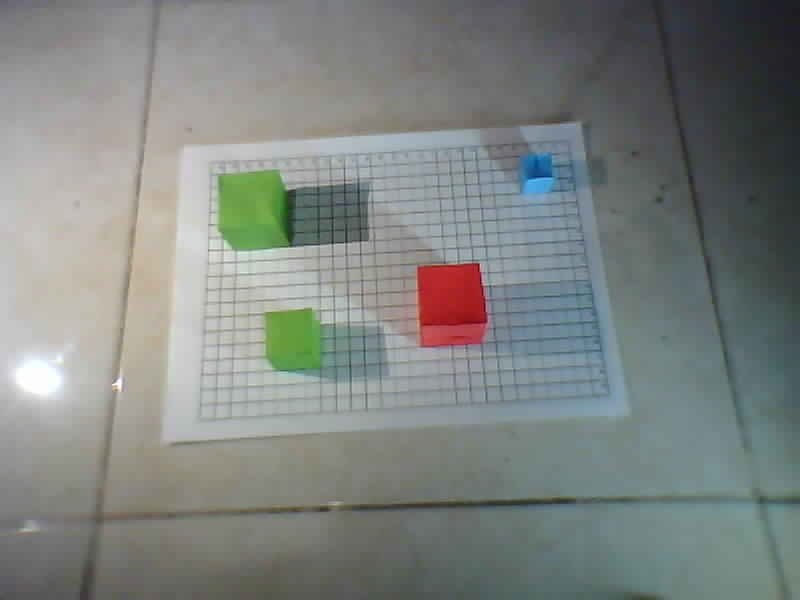LB: (196, 415, 204, 421)
LT: (208, 160, 216, 166)
RB: (604, 393, 612, 399)
RT: (565, 137, 573, 143)
